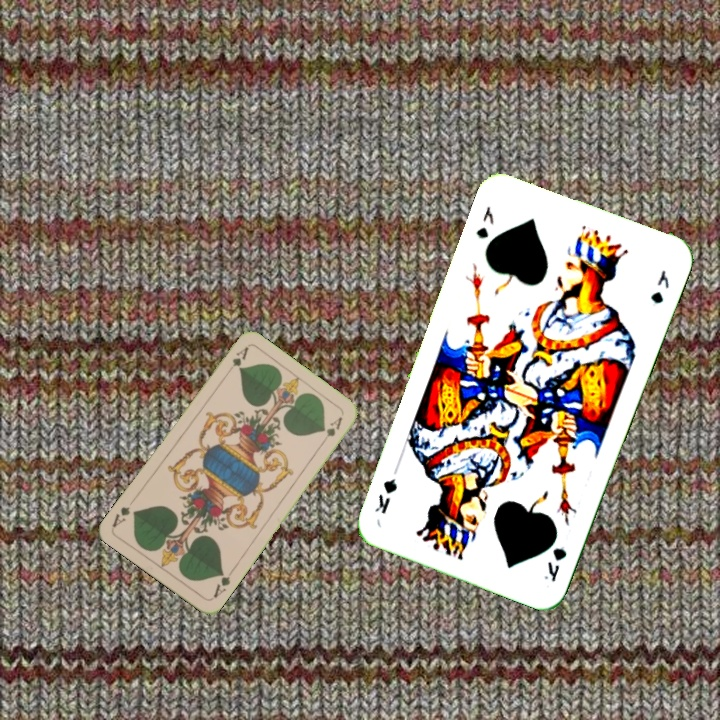GA: (209, 565, 236, 601), (228, 342, 251, 369)
GK: (540, 543, 570, 585), (471, 202, 497, 241)
